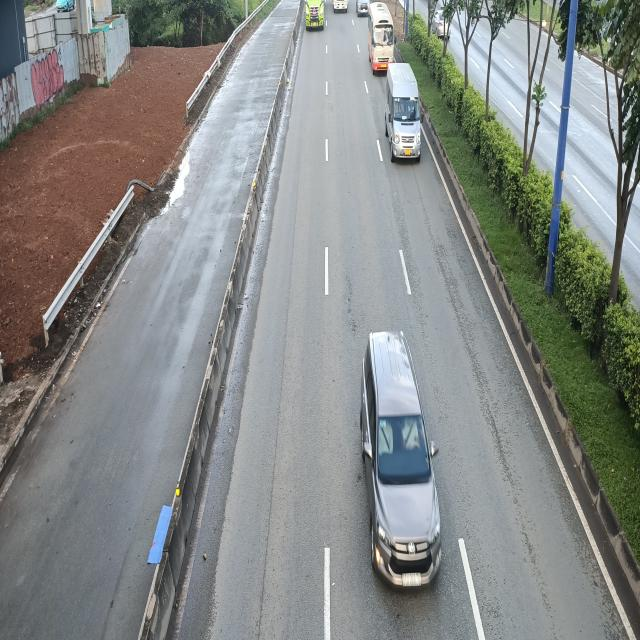car: (360, 331, 440, 589)
coach: (366, 3, 395, 77)
container: (305, 0, 327, 31)
van: (386, 62, 426, 162)
